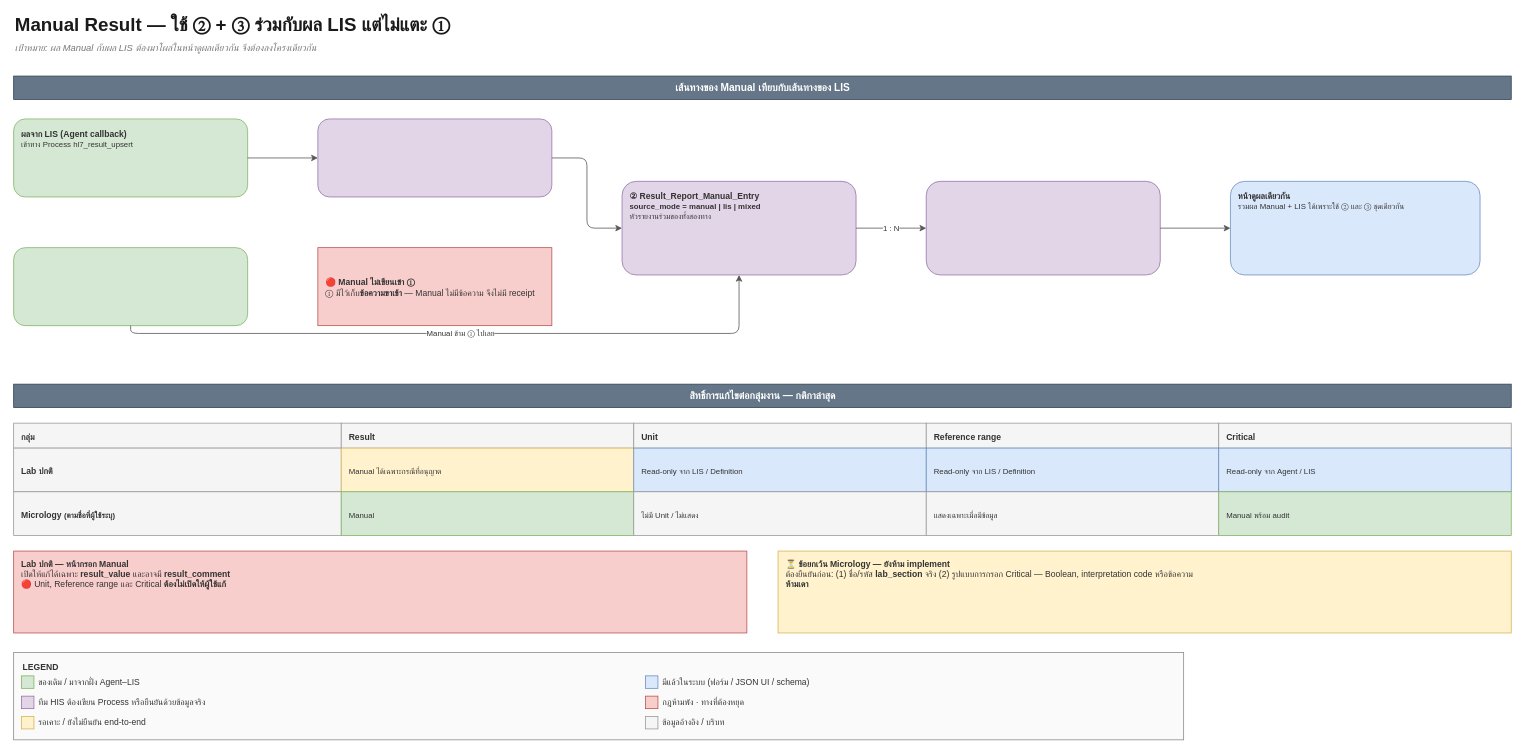
Image size: 1525x753. Some labels were removed from this diagram. The centre of each missing label's shape, as x and y in pixels:
ผลกรอกมือ (Manual) ผู้ใช้กรอกจากหน้าจอ HIS: pixel 130 286
① Lab_Result_Inbound_Receive technical receipt ของ ข้อความ เท่านั้น: pixel 434 157
③ Lab_Result_Item ผลราย test — โครงเดียวกันทั้ง Manual และ LIS: pixel 1042 228
